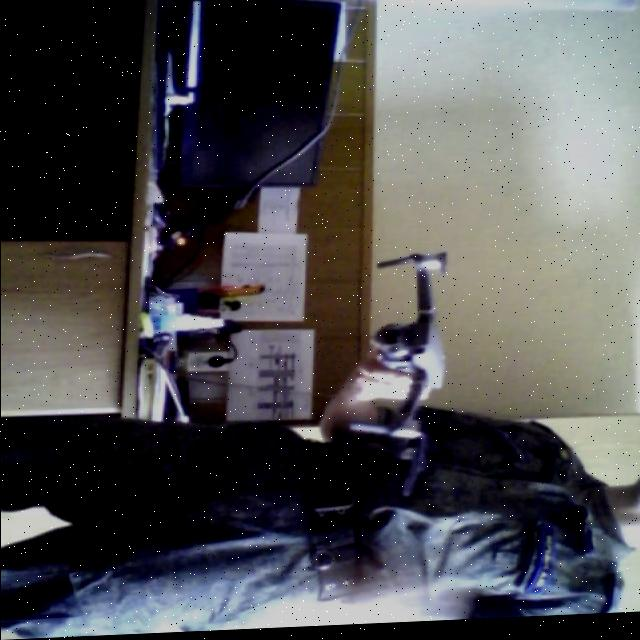drone: (336, 247, 468, 489)
